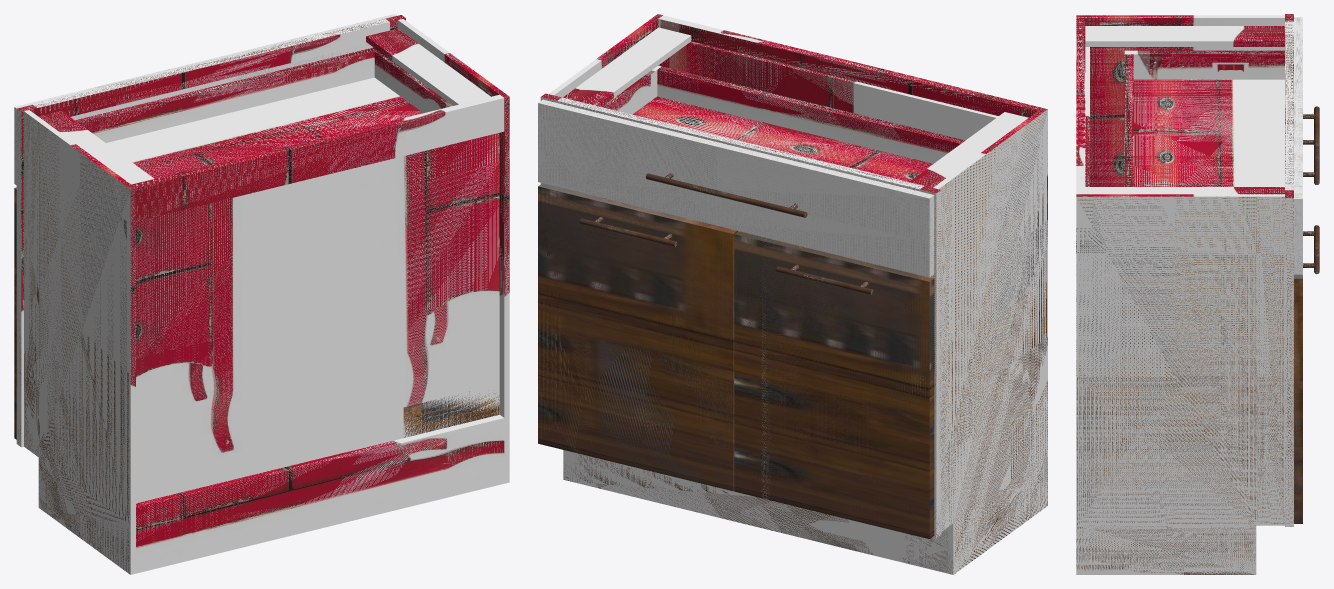
3 renders of one model, left to right at view 1: azimuth 30°, elevation 25°; view 2: azimuth 150°, elevation 25°; view 3: azimuth 270°, elevation 25°, orthographic. The views are drawn at different scales.
Visible parts, largest first — view 1: mesh5_mesh5-geometry, mesh8_mesh8-geometry, mesh13_mesh13-geometry, mesh4_mesh4-geometry, mesh20_mesh20-geometry, mesh18_mesh18-geometry, mesh6_mesh6-geometry, mesh7_mesh7-geometry, mesh9_mesh9-geometry, mesh11_mesh11-geometry, mesh15_mesh15-geometry, mesh25_mesh25-geometry (+5 smaller); view 2: mesh28_mesh28-geometry, mesh27_mesh27-geometry, mesh8_mesh8-geometry, mesh25_mesh25-geometry, mesh14_mesh14-geometry, mesh5_mesh5-geometry, mesh18_mesh18-geometry, mesh4_mesh4-geometry, mesh20_mesh20-geometry, mesh9_mesh9-geometry, mesh7_mesh7-geometry, mesh15_mesh15-geometry (+7 smaller); view 3: mesh11_mesh11-geometry, mesh20_mesh20-geometry, mesh10_mesh10-geometry, mesh12_mesh12-geometry, mesh8_mesh8-geometry, mesh17_mesh17-geometry, mesh16_mesh16-geometry, mesh3_mesh3-geometry, mesh25_mesh25-geometry, mesh27_mesh27-geometry, mesh4_mesh4-geometry, mesh15_mesh15-geometry (+6 smaller).
Part boxes in pixels (box(x1,y1,x2,y2)): mesh5_mesh5-geometry: box(136, 133, 499, 503); mesh8_mesh8-geometry: box(38, 121, 135, 524); mesh13_mesh13-geometry: box(136, 414, 504, 573); mesh4_mesh4-geometry: box(131, 94, 504, 221); mesh20_mesh20-geometry: box(106, 77, 422, 178); mesh18_mesh18-geometry: box(75, 48, 374, 142); mesh6_mesh6-geometry: box(33, 18, 389, 116); mesh7_mesh7-geometry: box(24, 110, 43, 456); mesh9_mesh9-geometry: box(38, 458, 135, 574); mesh11_mesh11-geometry: box(412, 29, 509, 433); mesh15_mesh15-geometry: box(366, 28, 490, 105); mesh25_mesh25-geometry: box(14, 14, 396, 185); mesh28_mesh28-geometry: box(734, 231, 934, 538); mesh27_mesh27-geometry: box(538, 183, 737, 491); mesh8_mesh8-geometry: box(948, 108, 1047, 522); mesh25_mesh25-geometry: box(538, 99, 934, 277); mesh14_mesh14-geometry: box(569, 451, 947, 573); mesh5_mesh5-geometry: box(658, 41, 998, 140); mesh18_mesh18-geometry: box(657, 66, 965, 163); mesh4_mesh4-geometry: box(658, 15, 1041, 117); mesh20_mesh20-geometry: box(633, 96, 932, 181); mesh9_mesh9-geometry: box(948, 454, 1047, 574); mesh7_mesh7-geometry: box(933, 177, 953, 531); mesh15_mesh15-geometry: box(563, 27, 691, 106); mesh11_mesh11-geometry: box(1076, 194, 1256, 525); mesh20_mesh20-geometry: box(1133, 79, 1284, 186); mesh10_mesh10-geometry: box(1256, 194, 1284, 525); mesh12_mesh12-geometry: box(1076, 525, 1256, 574); mesh8_mesh8-geometry: box(1076, 15, 1256, 186); mesh17_mesh17-geometry: box(1124, 50, 1284, 79); mesh16_mesh16-geometry: box(1085, 26, 1284, 46); mesh3_mesh3-geometry: box(1285, 14, 1293, 526); mesh25_mesh25-geometry: box(1294, 17, 1302, 274); mesh27_mesh27-geometry: box(1294, 274, 1302, 523); mesh4_mesh4-geometry: box(1076, 18, 1085, 194); mesh15_mesh15-geometry: box(1085, 187, 1284, 194).
Size of the model in its own units: 0.6695 by 0.6416 by 0.3743.
